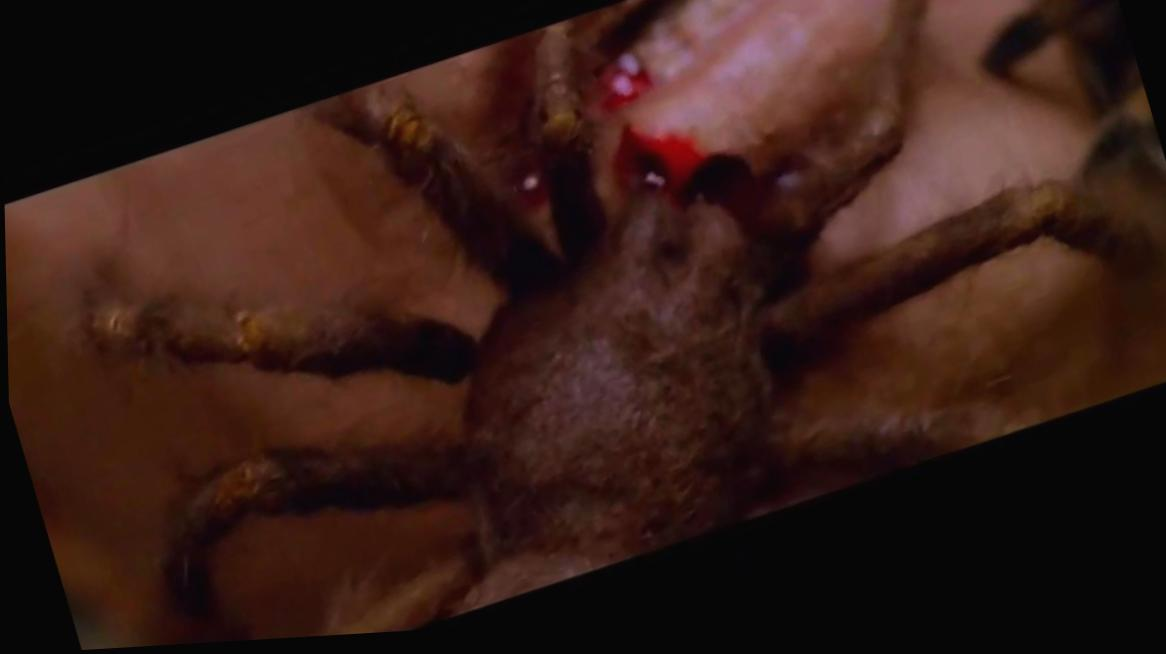Fire: (612, 132, 761, 231), (594, 0, 676, 115), (516, 176, 543, 208)
